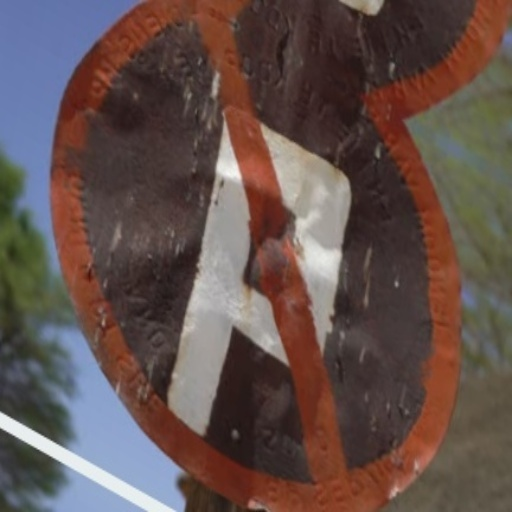No parking: (46, 7, 446, 499)
